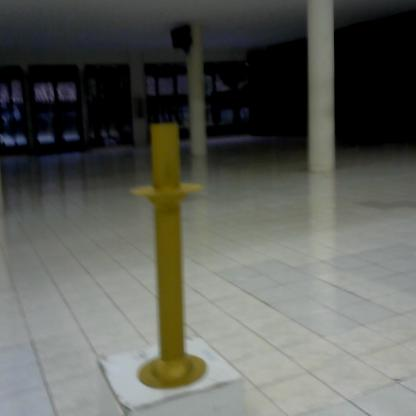pole: (131, 116, 212, 397)
